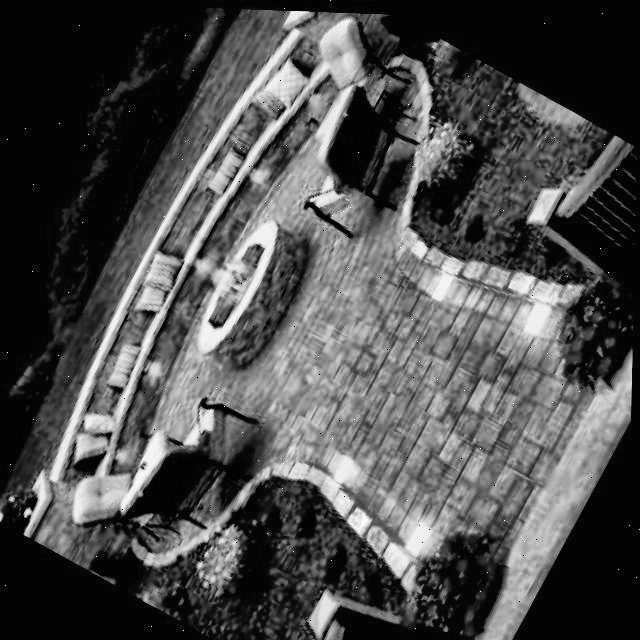Fire: (192, 243, 254, 308)
